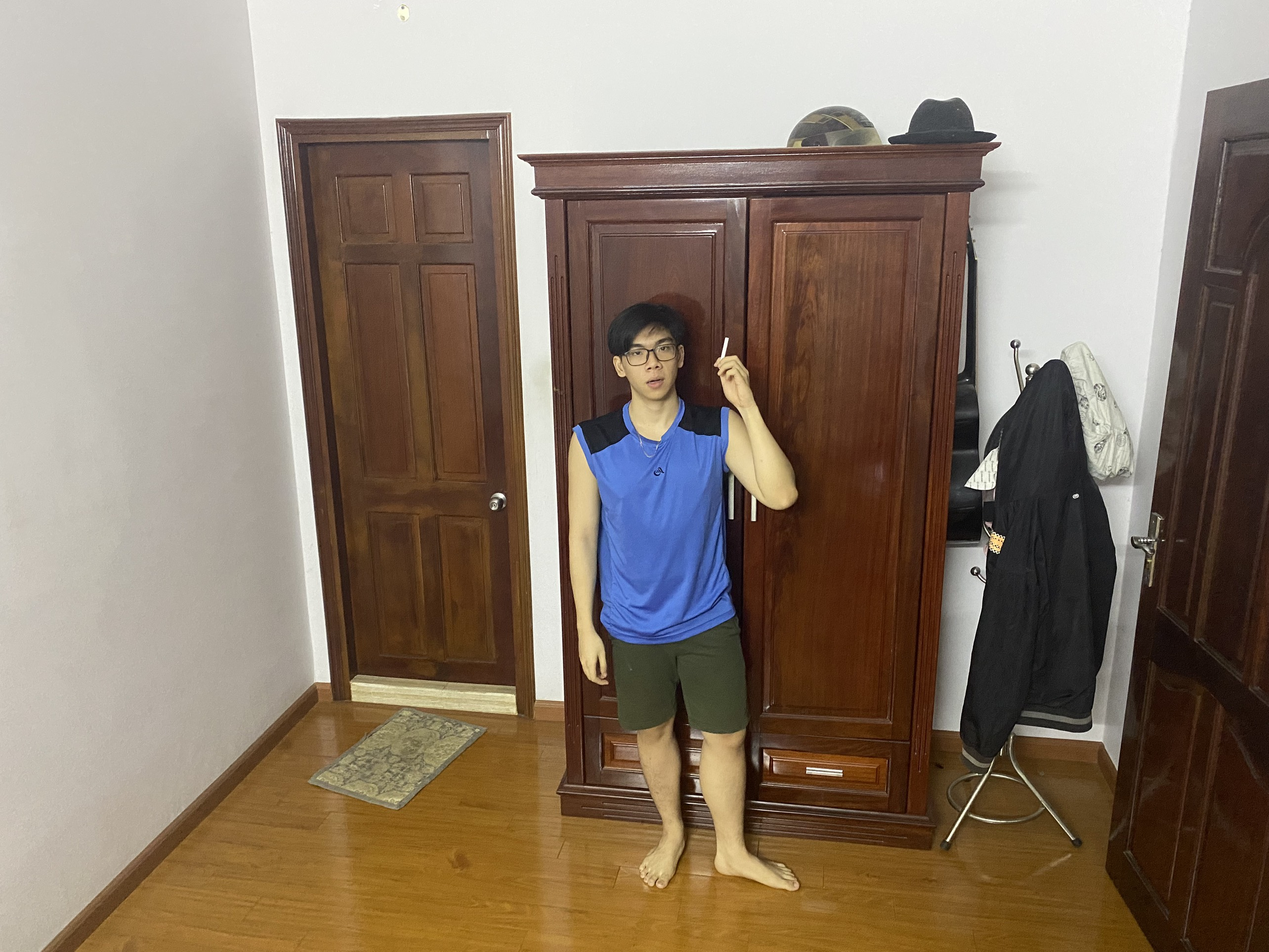cigarette: (718, 338, 739, 359)
person: (552, 289, 810, 915)
